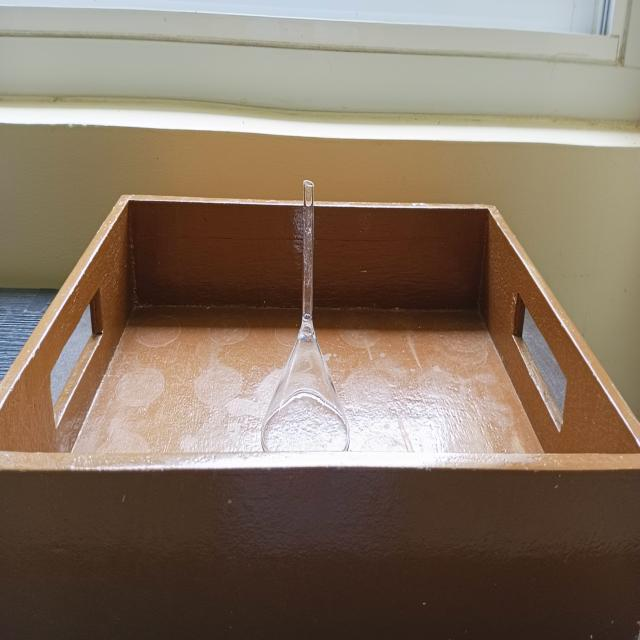funnel: (257, 173, 357, 487)
